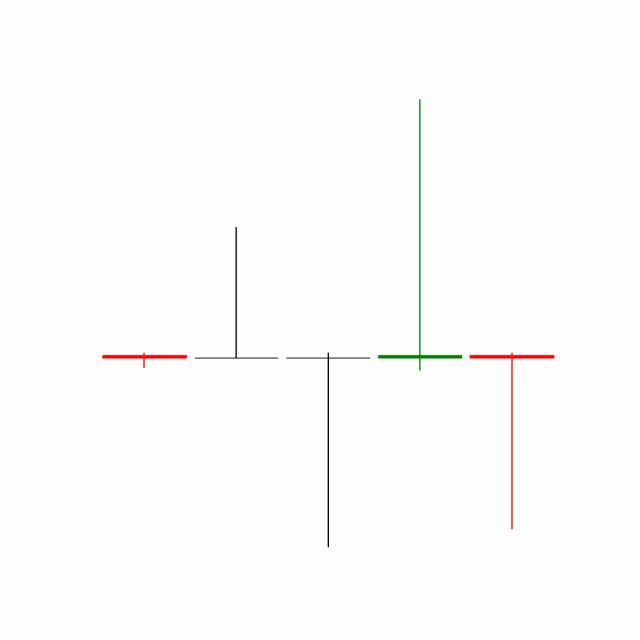Dragonfly Doji: (464, 350, 558, 532)
